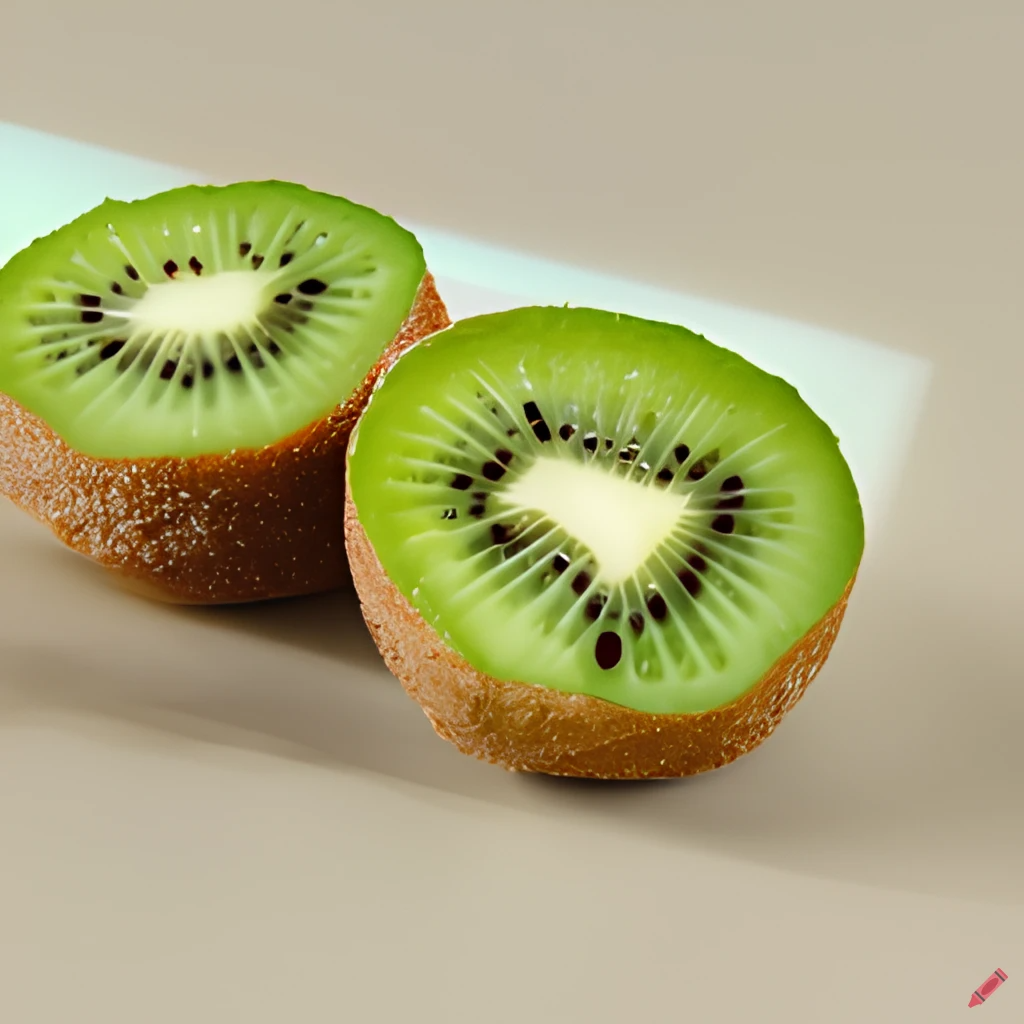Kiwi: (321, 280, 874, 866)
